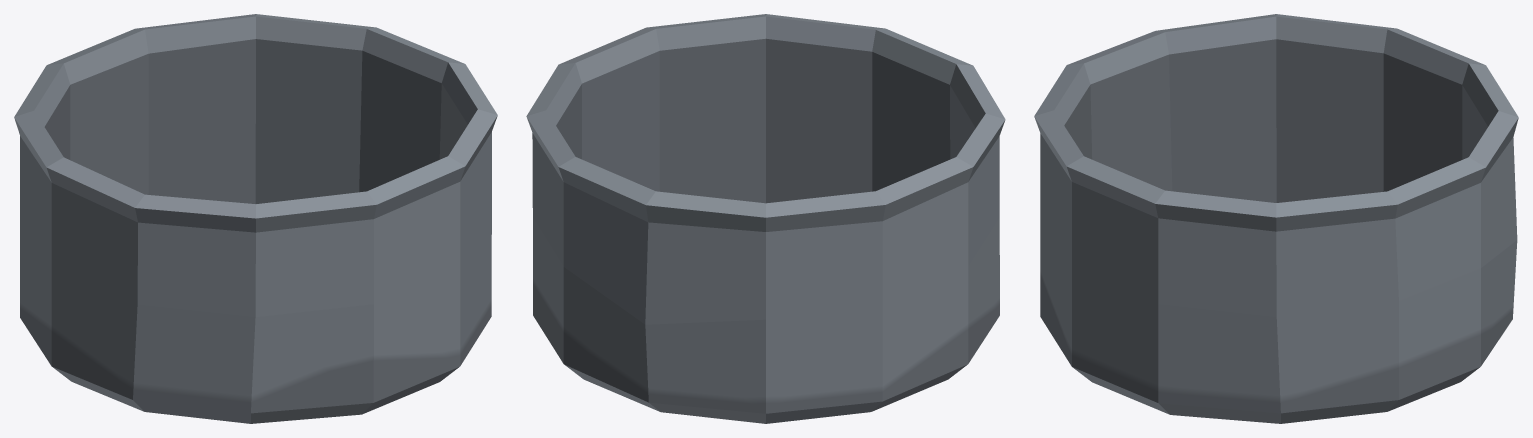
File: SM_Prop_Pot_Large_01.glb
3 renders of one model, left to right at view 1: azimuth 30°, elevation 25°; view 2: azimuth 150°, elevation 25°; view 3: azimuth 270°, elevation 25°, orthographic.
Parts seen in each view (by area): view 1: SM_Prop_Pot_Large_01; view 2: SM_Prop_Pot_Large_01; view 3: SM_Prop_Pot_Large_01.
Boxes of the visible parts, <box> form: SM_Prop_Pot_Large_01: <box>14,14,497,423</box>; SM_Prop_Pot_Large_01: <box>526,14,1005,423</box>; SM_Prop_Pot_Large_01: <box>1034,14,1518,423</box>.
Size of the model in its own units: 1.3 by 0.6758 by 1.3.
1 material, 1 textured.
